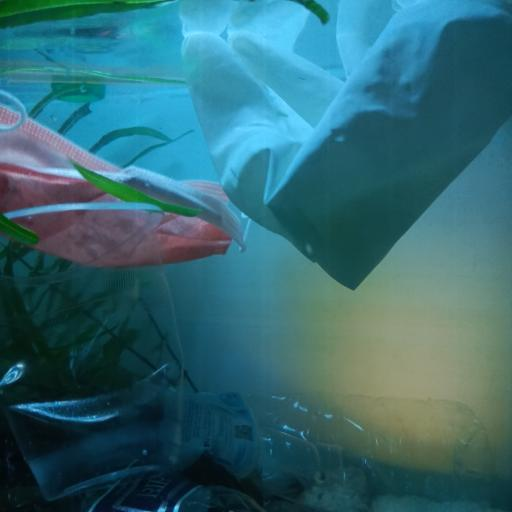bottle_cap: (51, 80, 107, 102)
glove: (180, 0, 512, 293)
mask: (0, 92, 254, 269)
plastic_bottle: (177, 387, 494, 510), (0, 452, 266, 512)
plastic_cup: (0, 199, 187, 499)
